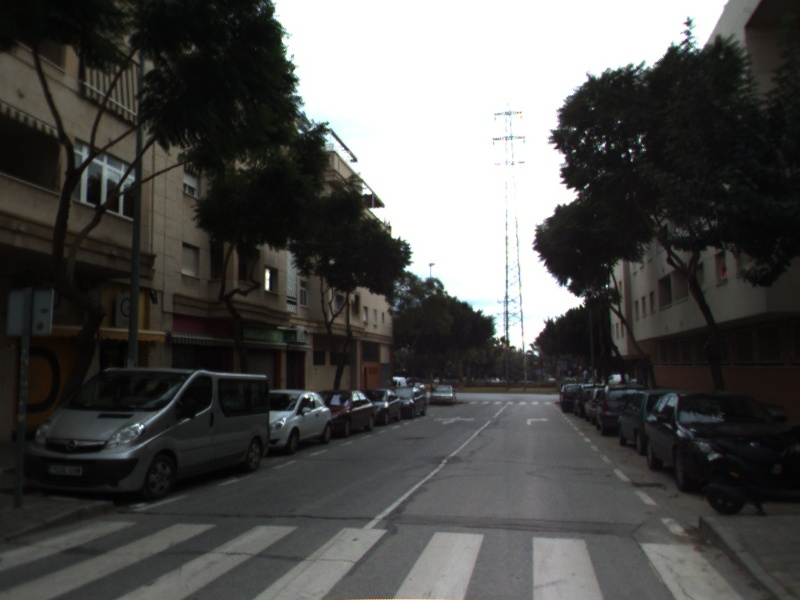RIGHT: (524, 415, 552, 427)
